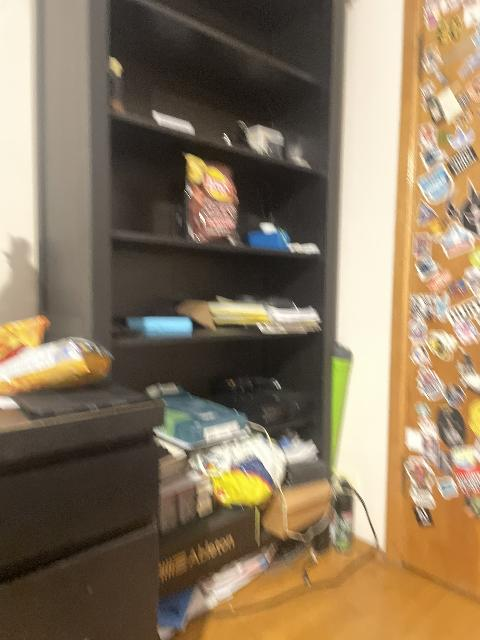Chio Cascaval 125g: (0, 318, 114, 397)
Chio Hula Hoops Cheese 70g: (182, 155, 242, 244)
